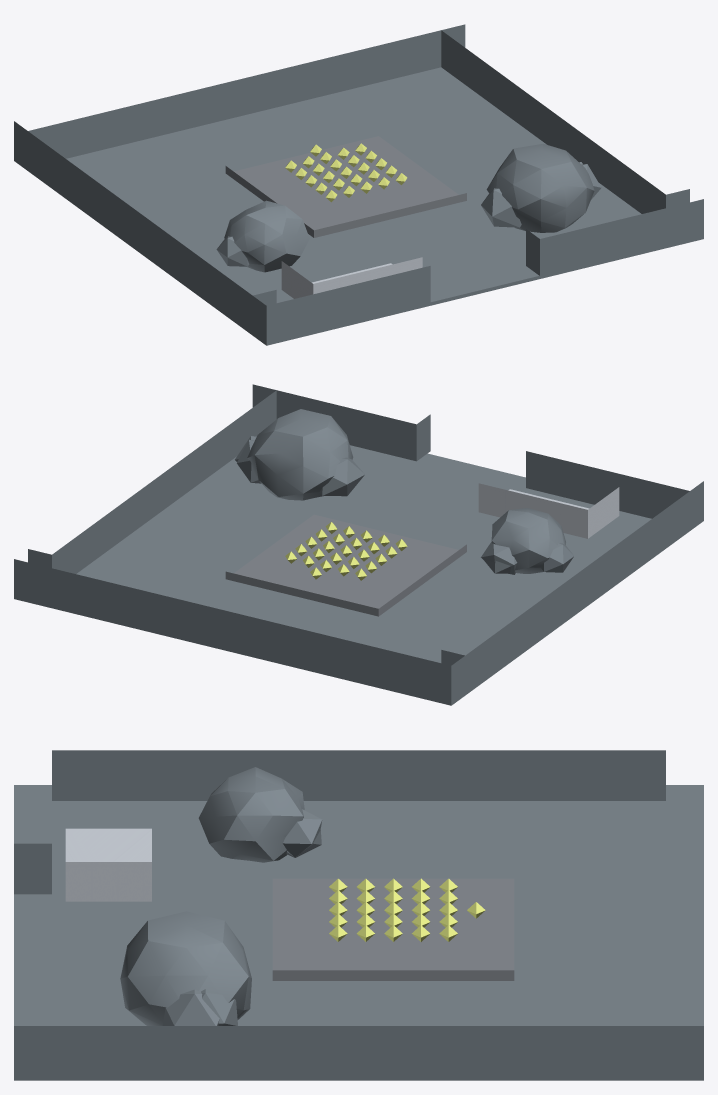
The model's file is tt_play_soft4.glb.
3 views of the same model, one above another, from view 1: azimuth 30°, elevation 25°; view 2: azimuth 150°, elevation 25°; view 3: azimuth 270°, elevation 25° (orthographic). The views are drawn at different scales.
Parts seen in each view (by area): view 1: Pad, Rim, Hill, Pit_Bed, Balls, Wedge; view 2: Pad, Rim, Hill, Pit_Bed, Wedge, Balls; view 3: Pad, Rim, Pit_Bed, Hill, Wedge, Balls.
Part boxes in pixels (bbox=[...]): Pad: bbox=[14, 67, 703, 345]; Rim: bbox=[14, 24, 703, 342]; Hill: bbox=[216, 143, 601, 272]; Pit_Bed: bbox=[225, 136, 466, 237]; Balls: bbox=[285, 143, 407, 202]; Wedge: bbox=[281, 257, 422, 298]; Pad: bbox=[14, 445, 703, 705]; Rim: bbox=[14, 384, 703, 702]; Hill: bbox=[235, 409, 573, 574]; Pit_Bed: bbox=[225, 514, 466, 616]; Wedge: bbox=[478, 483, 619, 538]; Balls: bbox=[285, 522, 407, 580]; Pad: bbox=[14, 801, 703, 1080]; Rim: bbox=[14, 750, 703, 1076]; Pit_Bed: bbox=[272, 878, 514, 980]; Hill: bbox=[120, 767, 322, 1025]; Wedge: bbox=[65, 828, 151, 901]; Balls: bbox=[329, 878, 485, 941].
Size of what is drawn, in the model's own units: 4 by 0.7113 by 4.
4 materials, 1 textured.
